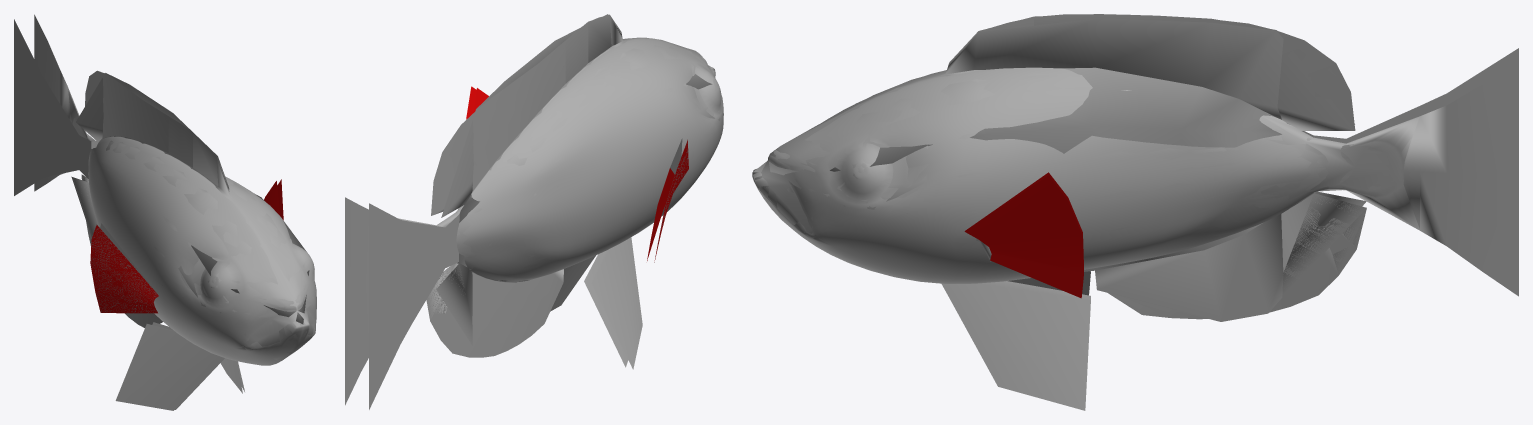
Rendered from Priacanthidae_A.fbx.
3 renders of one model, left to right at view 1: azimuth 30°, elevation 25°; view 2: azimuth 150°, elevation 25°; view 3: azimuth 270°, elevation 25°, orthographic. The views are drawn at different scales.
Visible parts, largest first — view 1: Priacanthidae_A_L, Priacanthidae_A_S, Priacanthidae_A_XS, Priacanthidae_A_M; view 2: Priacanthidae_A_L, Priacanthidae_A_XS, Priacanthidae_A_S, Priacanthidae_A_M; view 3: Priacanthidae_A_L, Priacanthidae_A_XS, Priacanthidae_A_S, Priacanthidae_A_M.
Boxes of the visible parts, bbox=[...] form: Priacanthidae_A_L: bbox=[50, 48, 316, 365]; Priacanthidae_A_S: bbox=[34, 14, 316, 410]; Priacanthidae_A_XS: bbox=[14, 19, 309, 409]; Priacanthidae_A_M: bbox=[34, 16, 315, 410]; Priacanthidae_A_L: bbox=[364, 37, 723, 364]; Priacanthidae_A_XS: bbox=[369, 14, 712, 409]; Priacanthidae_A_S: bbox=[345, 14, 722, 403]; Priacanthidae_A_M: bbox=[345, 15, 713, 404]; Priacanthidae_A_L: bbox=[752, 14, 1518, 306]; Priacanthidae_A_XS: bbox=[753, 18, 1518, 410]; Priacanthidae_A_S: bbox=[752, 14, 1518, 318]; Priacanthidae_A_M: bbox=[754, 14, 1475, 319].
Bounding box in the file's own units: 0.3797 × 0.5297 × 1.03.
